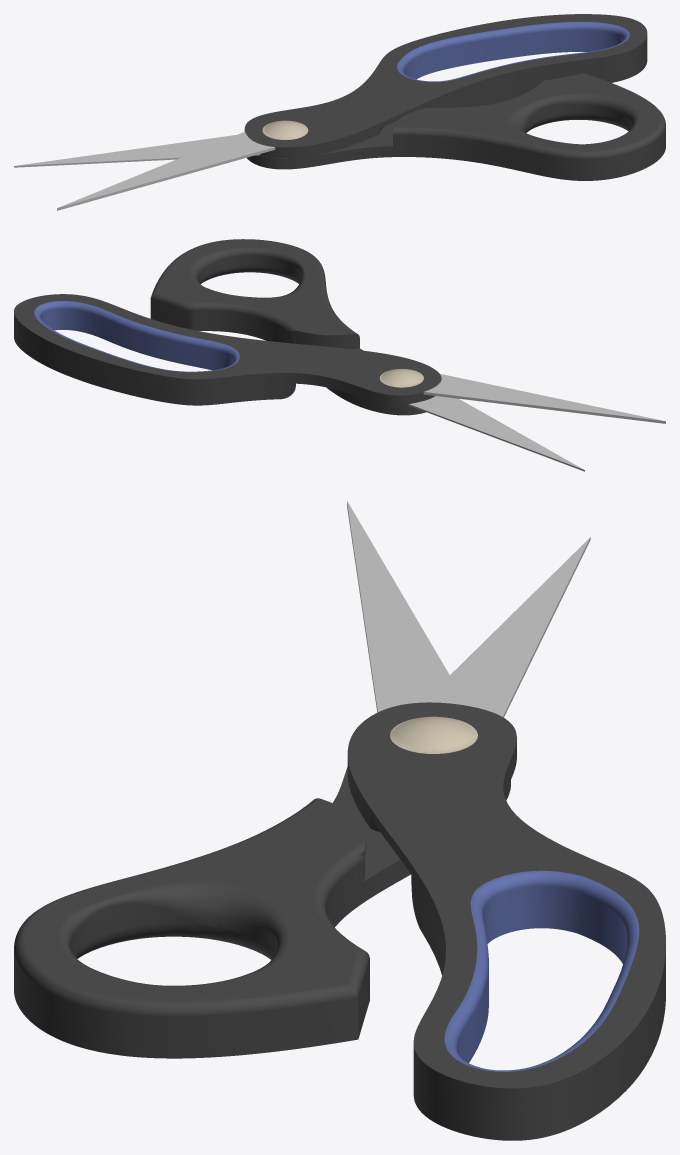
The model's file is Cutter.fbx.
3 views of the same model, one above another, from view 1: azimuth 30°, elevation 25°; view 2: azimuth 150°, elevation 25°; view 3: azimuth 270°, elevation 25° (orthographic). The views are drawn at different scales.
Visible parts, largest first — view 1: Object_2; view 2: Object_2; view 3: Object_2.
Part boxes in pixels (bbox=[...]): Object_2: bbox=[14, 14, 665, 210]; Object_2: bbox=[14, 239, 665, 471]; Object_2: bbox=[14, 501, 665, 1140].
Size of the model in its own units: 1206 by 60 by 565.
